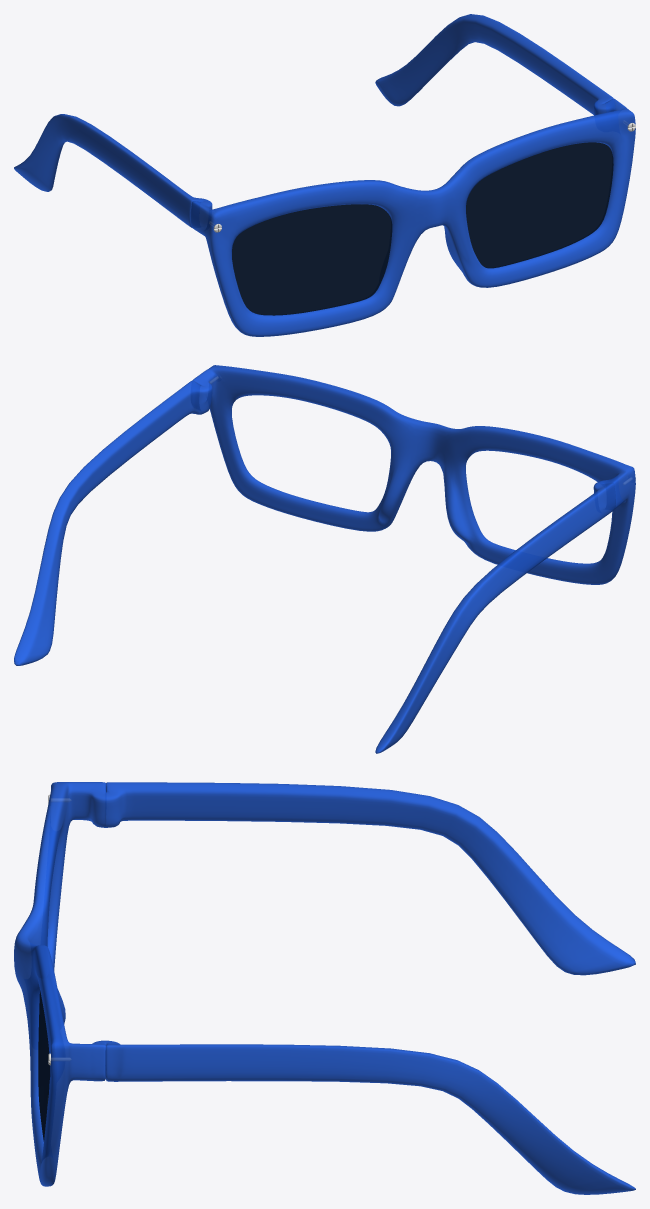
The model's file is blue_rectangle_glasses.glb.
3 renders of one model, top to bottom at view 1: azimuth 30°, elevation 25°; view 2: azimuth 150°, elevation 25°; view 3: azimuth 270°, elevation 25°, orthographic. The views are drawn at different scales.
Parts seen in each view (by area): view 1: Cube.011, Cube.013; view 2: Cube.011; view 3: Cube.011, Cube.013.
Part boxes in pixels (x1,y1,x2,y2): Cube.011: [14, 14, 635, 336]; Cube.013: [232, 142, 613, 315]; Cube.011: [14, 365, 635, 753]; Cube.011: [14, 782, 635, 1194]; Cube.013: [38, 990, 50, 1141].
Bounding box in the file's own units: 1.08 × 0.3409 × 1.06.
